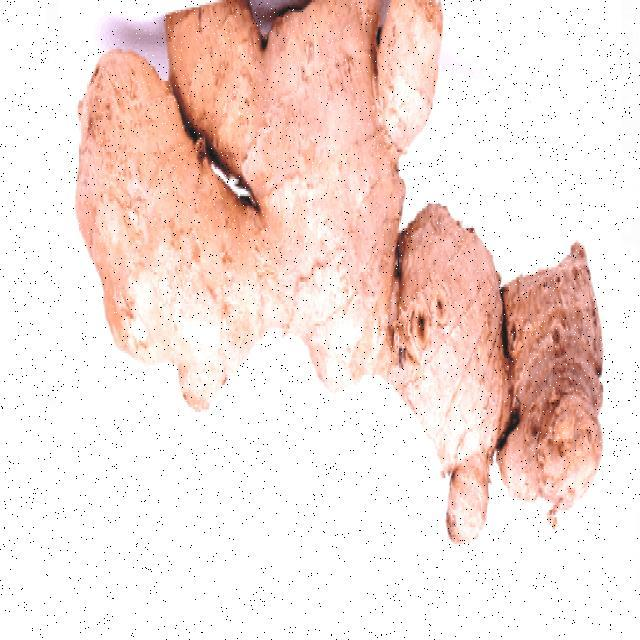ginger: (58, 0, 621, 584)
